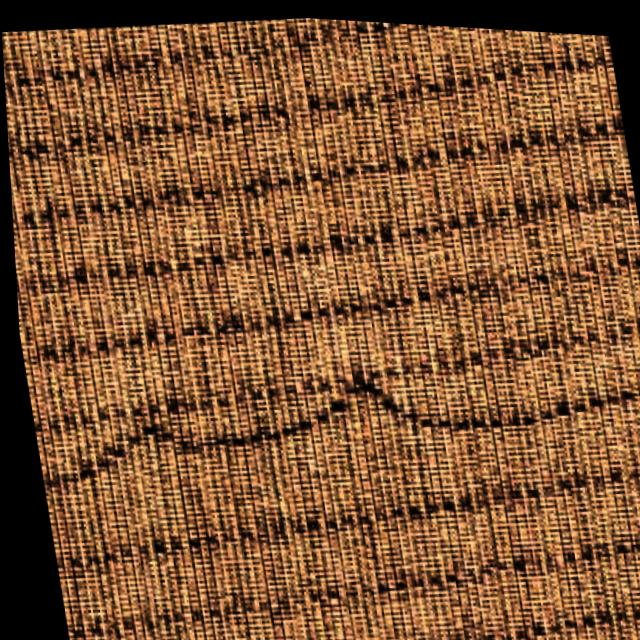Stitch: (19, 320, 551, 518)
